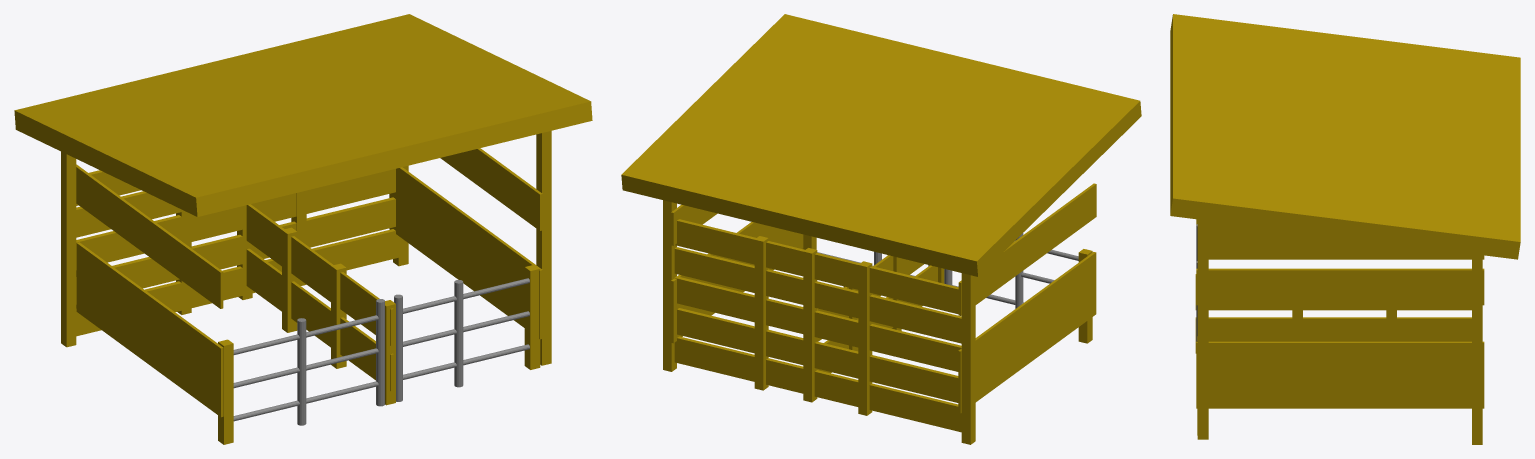
The model's file is Hose_Stable.fbx.
3 renders of one model, left to right at view 1: azimuth 30°, elevation 25°; view 2: azimuth 150°, elevation 25°; view 3: azimuth 270°, elevation 25°, orthographic. The views are drawn at different scales.
Parts seen in each view (by area): view 1: pCube28, pCube5, pCube8, pCube6, pCube20, pCube19, pCube17, pCube21, pCube18, pCube7, pCube4, pCube1 (+19 smaller); view 2: pCube28, pCube5, pCube27, pCube18, pCube20, pCube26, pCube19, pCube6, pCube4, pCube8, pCube3, pCube9 (+8 smaller); view 3: pCube28, pCube8, pCube7, pCube21, pCube5, pCube1, pCube3, pCube17, pCube12, pCube13.
Boxes of the visible parts, box(x1,y1,x2,y2) form: pCube28: box(14, 14, 592, 216); pCube5: box(76, 242, 223, 417); pCube8: box(389, 167, 542, 339); pCube6: box(76, 164, 223, 308); pCube20: box(76, 169, 395, 269); pCube19: box(76, 197, 395, 304); pCube17: box(246, 204, 393, 345); pCube21: box(246, 248, 393, 391); pCube18: box(76, 229, 398, 336); pCube7: box(440, 148, 542, 230); pCube4: box(61, 151, 76, 347); pCube1: box(536, 131, 551, 365); pCube28: box(621, 14, 1141, 276); pCube5: box(958, 252, 1096, 413); pCube27: box(674, 247, 961, 343); pCube18: box(674, 336, 961, 432); pCube20: box(675, 276, 961, 371); pCube26: box(675, 219, 958, 314); pCube19: box(677, 308, 958, 402); pCube6: box(958, 183, 1096, 315); pCube4: box(961, 273, 975, 444); pCube8: box(671, 222, 803, 343); pCube3: box(663, 200, 676, 371); pCube9: box(754, 298, 768, 390); pCube28: box(1170, 14, 1520, 259); pCube8: box(1196, 341, 1484, 408); pCube7: box(1196, 268, 1484, 305); pCube21: box(1195, 317, 1471, 353); pCube5: box(1196, 219, 1484, 259); pCube1: box(1197, 219, 1208, 439); pCube3: box(1472, 254, 1482, 444); pCube17: box(1195, 274, 1471, 310); pCube12: box(1386, 305, 1396, 341); pCube13: box(1292, 305, 1302, 341).
Size of the model in its own units: 552 by 361 by 443.
